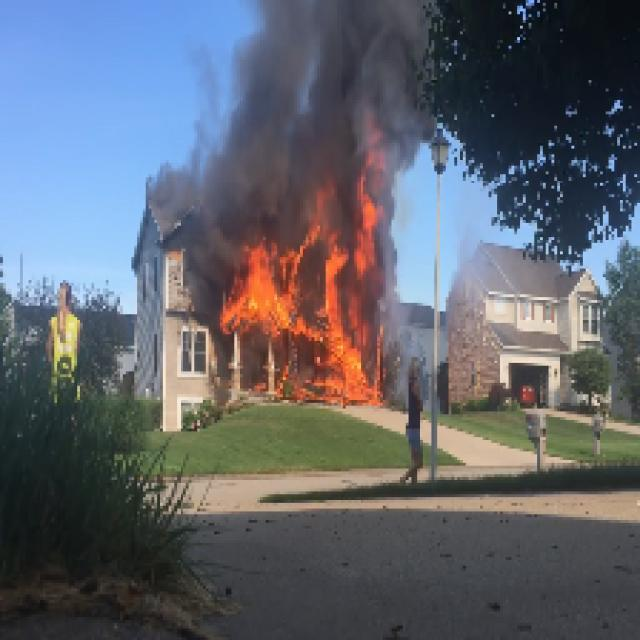Fire: (312, 194, 377, 400), (226, 240, 288, 332)
Smoke: (208, 2, 306, 228), (308, 3, 432, 103), (148, 46, 212, 218)
